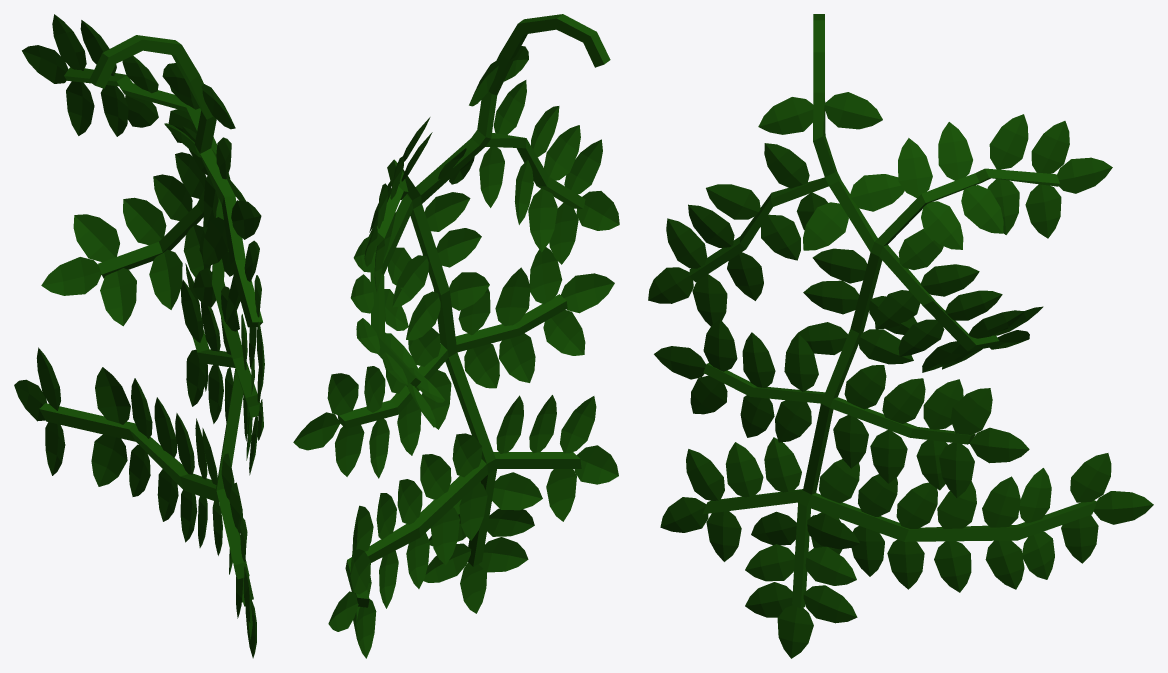
Rendered from Ivy01.fbx.
3 views of the same model, side by side, from view 1: azimuth 30°, elevation 25°; view 2: azimuth 150°, elevation 25°; view 3: azimuth 270°, elevation 25° (orthographic). The views are drawn at different scales.
Parts seen in each view (by area): view 1: Ivy01; view 2: Ivy01; view 3: Ivy01.
Boxes of the visible parts, left/top/right/bottom form: Ivy01: left=14, top=14, right=264, bottom=658; Ivy01: left=293, top=14, right=619, bottom=658; Ivy01: left=648, top=14, right=1153, bottom=658.
Bounding box in the file's own units: 207 × 620 × 479.
